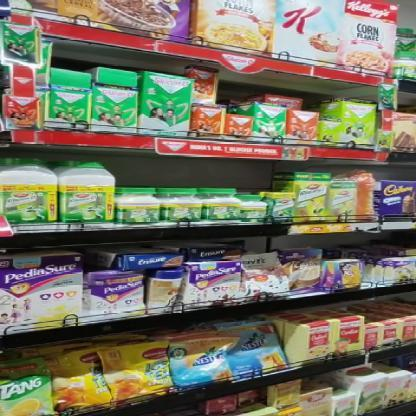Glucon D Nimbu Pani 1-KG: (339, 102, 376, 144)
Glucon D Regular 1-KG: (139, 74, 191, 133), (89, 85, 138, 132), (48, 114, 54, 115)
